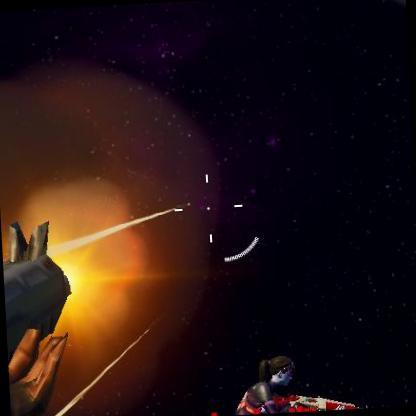person: (252, 355, 310, 413)
